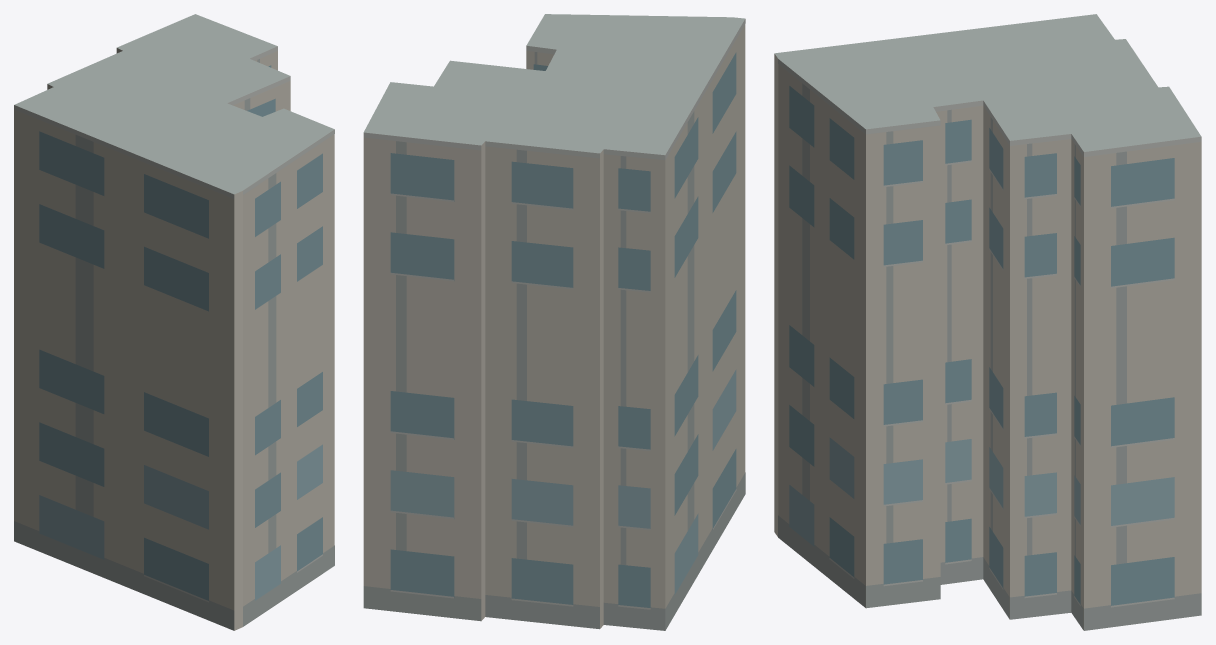
File: survey-upis-32988684.glb
3 renders of one model, left to right at view 1: azimuth 30°, elevation 25°; view 2: azimuth 150°, elevation 25°; view 3: azimuth 270°, elevation 25°, orthographic. The views are drawn at different scales.
Visible parts, largest first — view 1: survey-upis-32988684.tmp; view 2: survey-upis-32988684.tmp; view 3: survey-upis-32988684.tmp.
Boxes of the visible parts, left/top/right/bottom form: survey-upis-32988684.tmp: left=14, top=14, right=334, bottom=630; survey-upis-32988684.tmp: left=363, top=14, right=745, bottom=630; survey-upis-32988684.tmp: left=774, top=14, right=1201, bottom=630.
Bounding box in the file's own units: 14.24 × 23 × 18.61.
